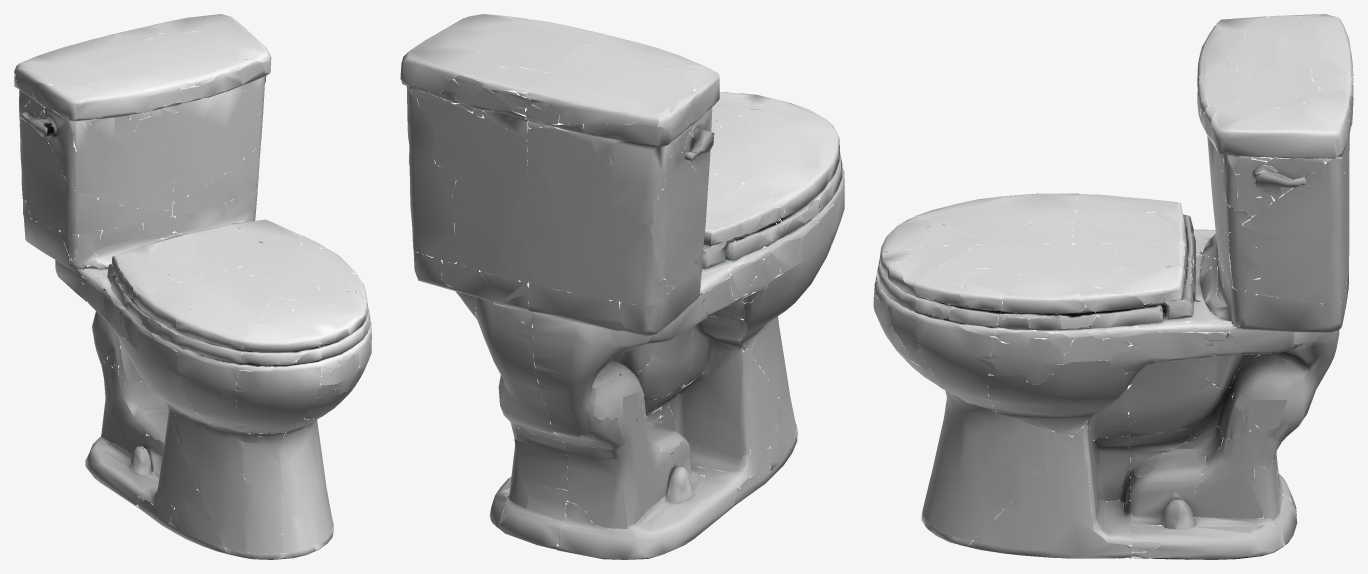
Rendered from vater.glb.
The picture shows the model from 3 angles, left to right: view 1: azimuth 30°, elevation 25°; view 2: azimuth 150°, elevation 25°; view 3: azimuth 270°, elevation 25°; orthographic projection. The views are drawn at different scales.
Visible parts, largest first — view 1: tripo_node_2ead4a91-14a9-4488-9a21-ebb82f1da340; view 2: tripo_node_2ead4a91-14a9-4488-9a21-ebb82f1da340; view 3: tripo_node_2ead4a91-14a9-4488-9a21-ebb82f1da340.
Part boxes in pixels (left/top/right/bottom): tripo_node_2ead4a91-14a9-4488-9a21-ebb82f1da340: left=14, top=14, right=371, bottom=559; tripo_node_2ead4a91-14a9-4488-9a21-ebb82f1da340: left=400, top=14, right=844, bottom=559; tripo_node_2ead4a91-14a9-4488-9a21-ebb82f1da340: left=873, top=14, right=1353, bottom=559.
Size of the model in its own units: 0.5995 by 0.9807 by 0.9488.
1 material, 1 textured.
